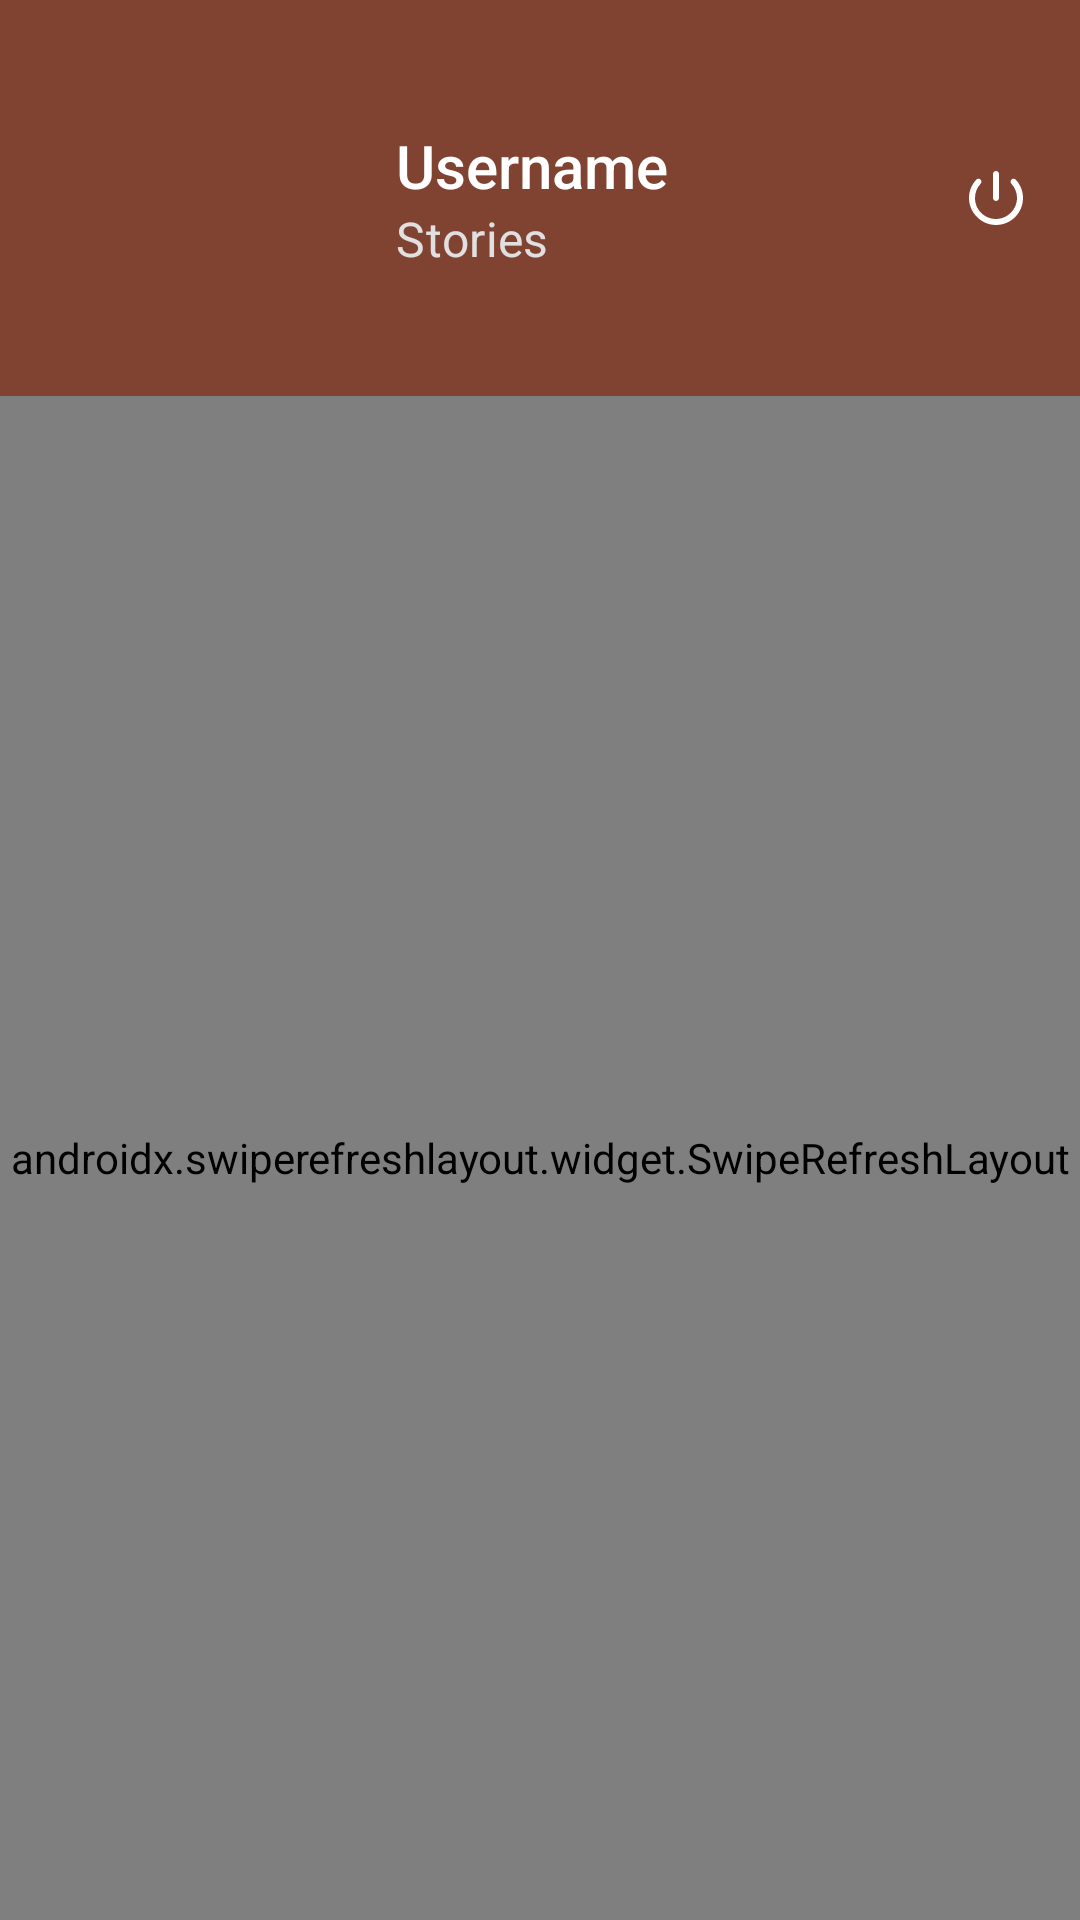

Icon click points for this 1080×1920 phone screenshot, format (x=x, y=y):
power settings: (x=996, y=198)
